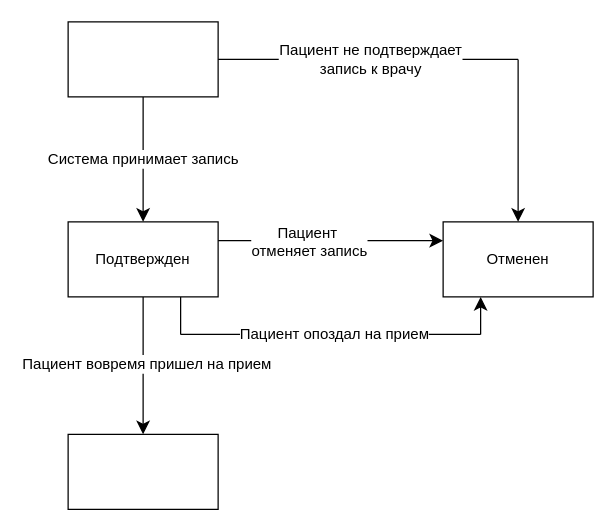
The diagram is 615 pixels wide and 531 high, and some of its shapes have lost their labels. Here are the shapes that lost their labels. From the top down, the centre of each, then its label:
(142,59): Не подтвержден
(142,471): Завершен
